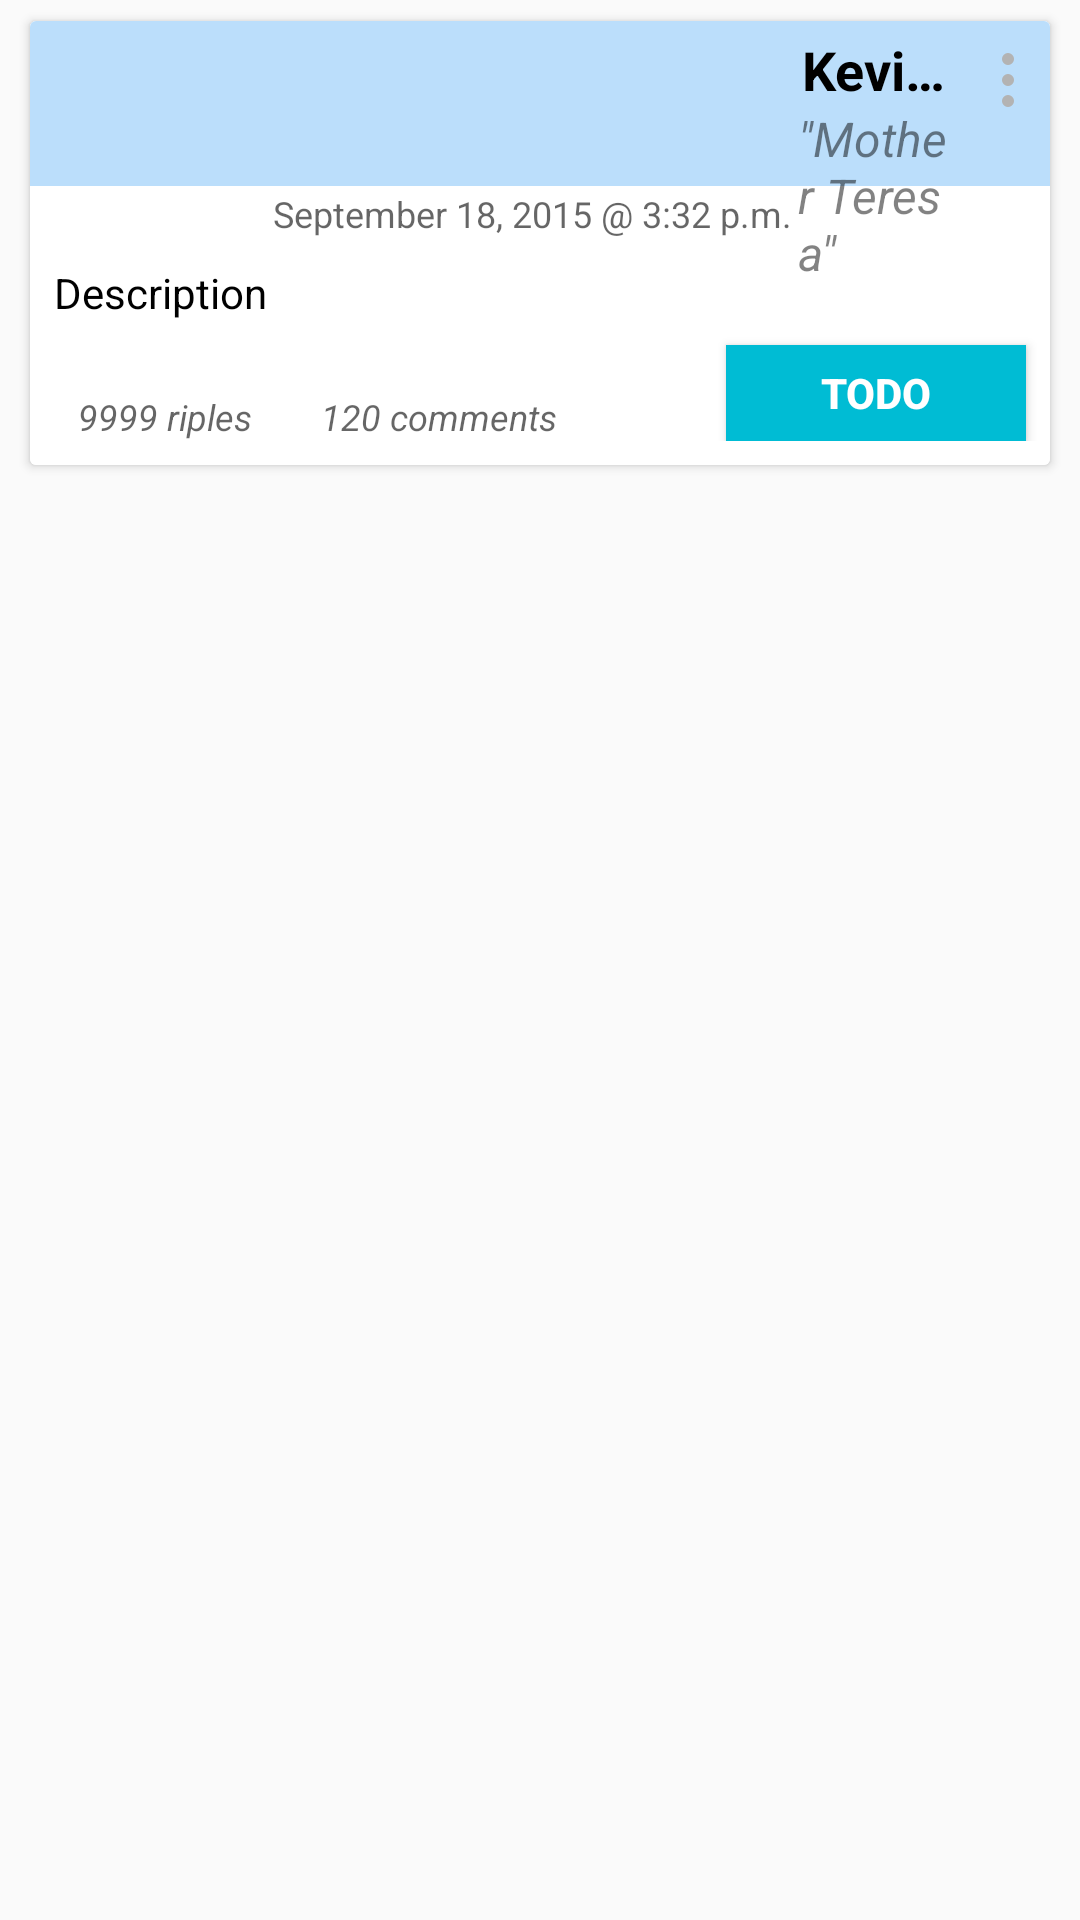

Icons on this 1080px×1920px Android screen, each with its box as bbox=[x1, y1, x2, y2]:
menu: bbox=[1002, 53, 1014, 107]
